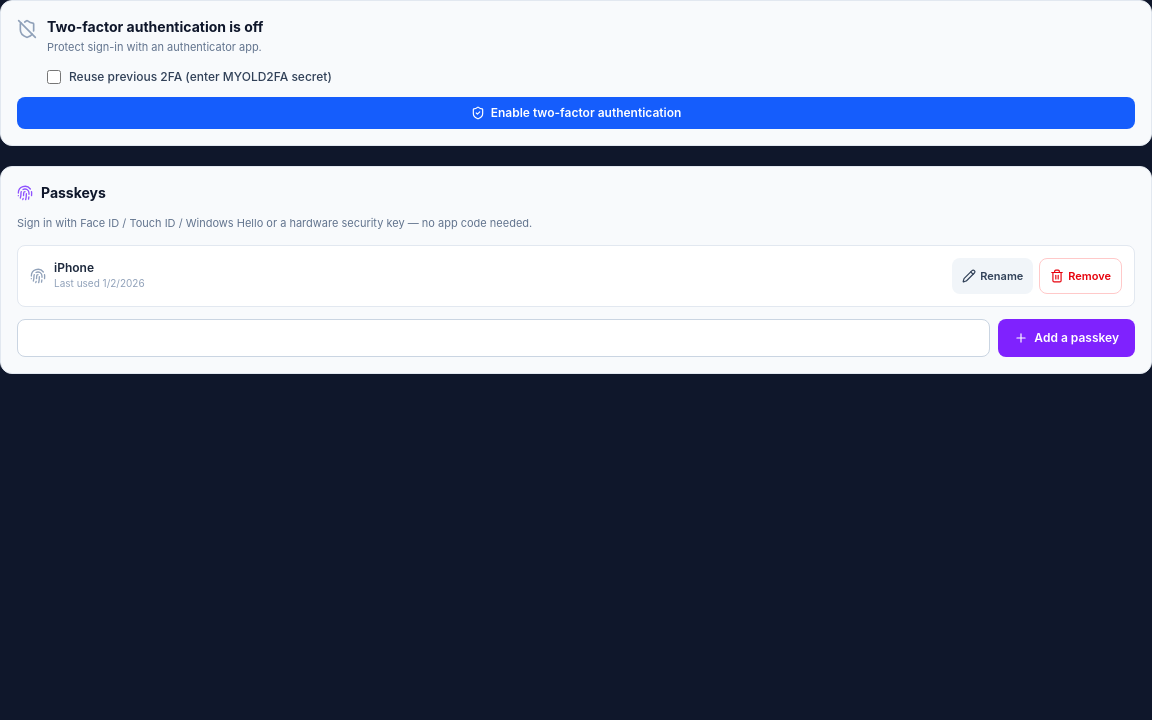
SecurityTab passkeys section › removes a passkey only after confirming the in-app dialog
This screenshot has width=1152, height=720.
Expected: the text "iPhone" is shown, [54,260,94,275]
# 撳「移除」只會開對話框，唔會即刻刪
Click the button "Remove" at [1081, 276], box [1039,258,1122,294]
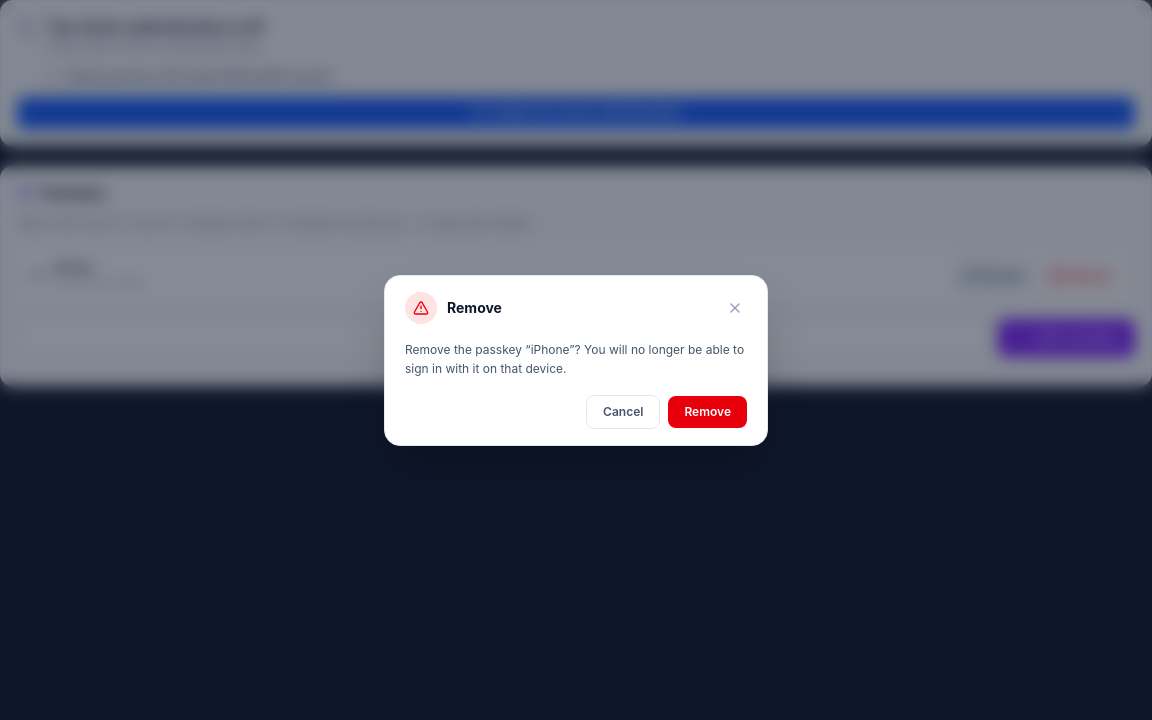
Result: the text "Remove the passkey “iPhone”?" is shown at [405,342,744,376]
# 對話框嘅確認掣（DOM 最後一個 "Remove"）才真正刪除
Click the button "Remove" at [708, 412], box [668,396,747,428]
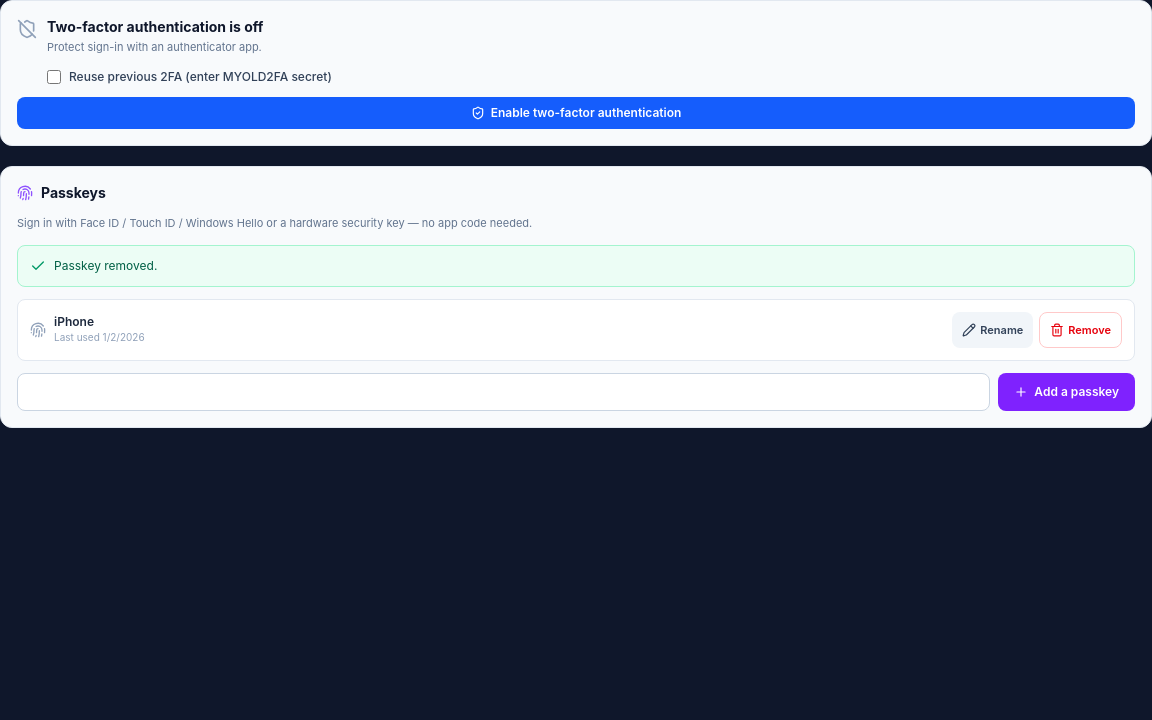
Result: the text "Passkey removed." is shown at [54,258,157,274]
